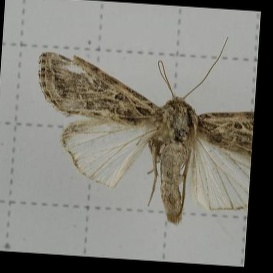Spodoptera litura: (33, 30, 253, 224)
